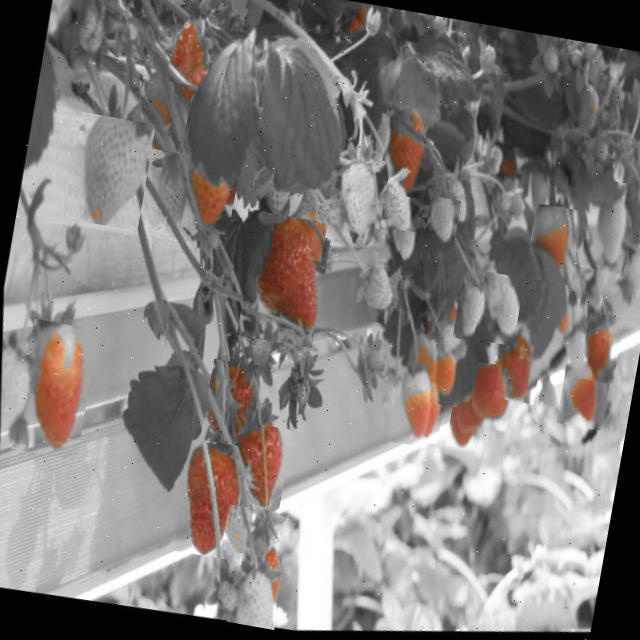ripe: (236, 210, 332, 348), (172, 440, 252, 560), (376, 102, 439, 199), (226, 421, 292, 513), (199, 358, 263, 448), (494, 325, 546, 405), (468, 362, 516, 432), (446, 400, 485, 450)
unripe: (11, 318, 100, 459), (62, 112, 156, 231), (324, 152, 390, 248), (131, 58, 196, 154), (579, 178, 638, 274), (178, 154, 240, 235), (524, 203, 583, 285), (0, 345, 44, 447), (556, 356, 612, 431), (386, 368, 436, 446), (473, 271, 524, 346), (166, 16, 218, 88), (227, 565, 284, 630), (349, 256, 402, 324), (372, 167, 424, 232), (404, 368, 448, 444), (578, 312, 624, 384), (380, 212, 425, 277), (221, 496, 269, 556), (402, 332, 444, 392), (426, 344, 466, 406), (422, 195, 461, 254), (452, 284, 490, 342)
